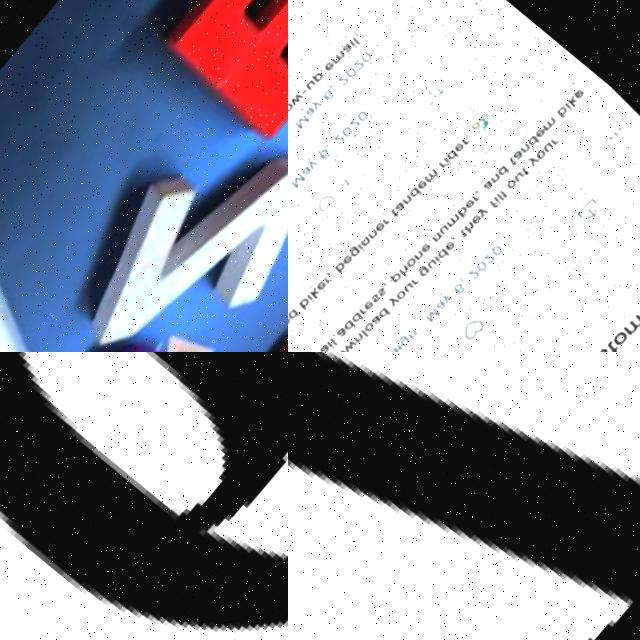0: (355, 113, 371, 129), (343, 69, 359, 85), (358, 54, 374, 69), (474, 265, 488, 280), (340, 129, 355, 143), (490, 250, 504, 264)
1: (340, 181, 351, 193)
2: (481, 257, 498, 272), (331, 136, 348, 151), (335, 77, 351, 92), (351, 62, 367, 77), (467, 272, 481, 286), (348, 121, 362, 135)
6: (0, 352, 288, 640), (320, 91, 336, 107), (453, 286, 467, 301), (317, 151, 331, 166)
E: (132, 0, 288, 162)
T: (288, 352, 640, 640)
Z: (44, 90, 288, 352)
